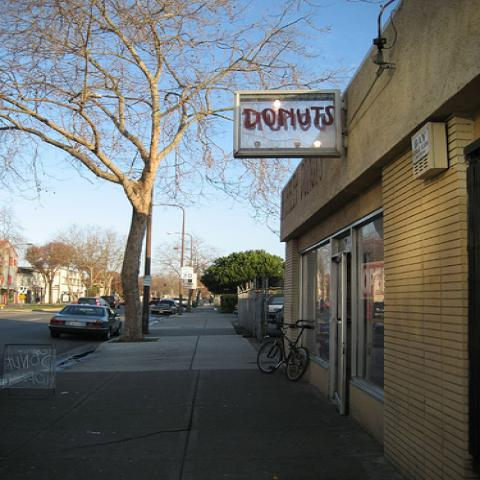car: (49, 304, 122, 340), (150, 302, 179, 316), (268, 293, 284, 317), (78, 296, 110, 306), (102, 296, 122, 308), (161, 298, 177, 306), (181, 300, 189, 307)
